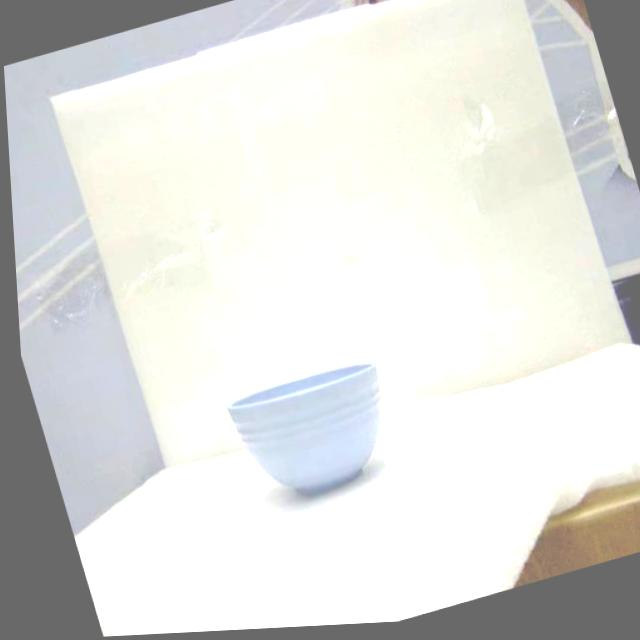Bowl: (228, 363, 381, 493)
